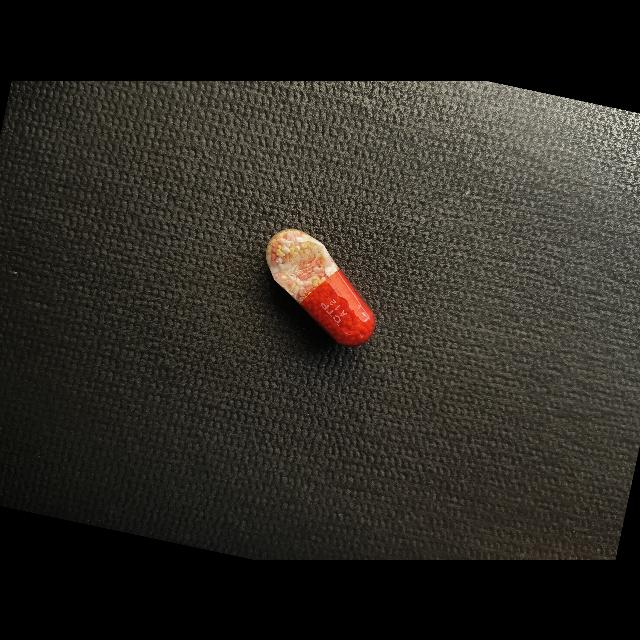Defective Capsule: (266, 228, 375, 345)
